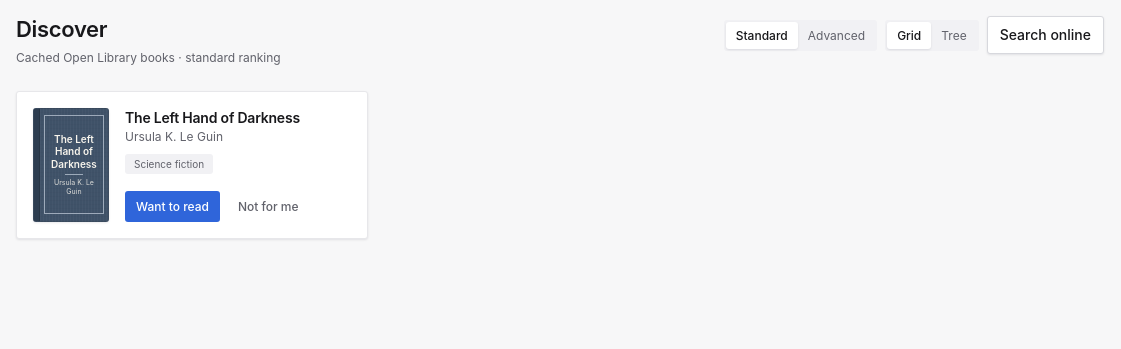
Test case: waiting for a search › shows the term being looked up
Click the button "Search online" at (1045, 35), box left=987, top=16, right=1104, bottom=54
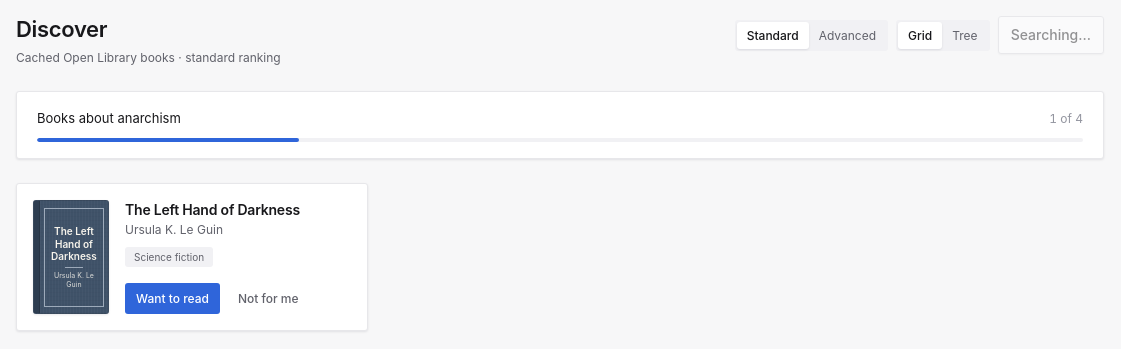
Expected: the element named "Search progress" is shown, left=16, top=91, right=1104, bottom=160
Expected: the text "Books about anarchism" is shown, left=37, top=108, right=181, bottom=128
